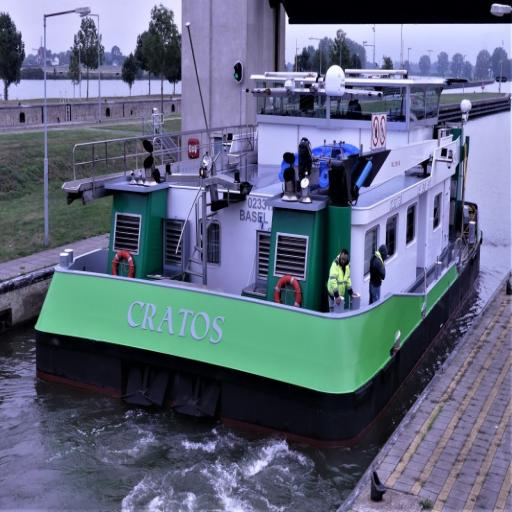tugboat: (32, 65, 488, 459)
